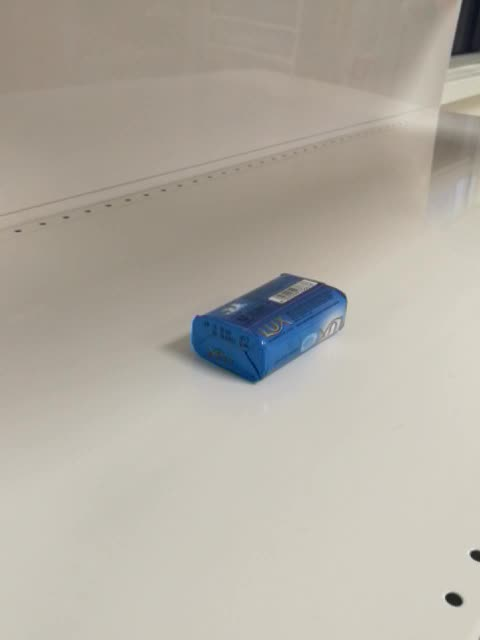soap: (189, 270, 350, 385)
